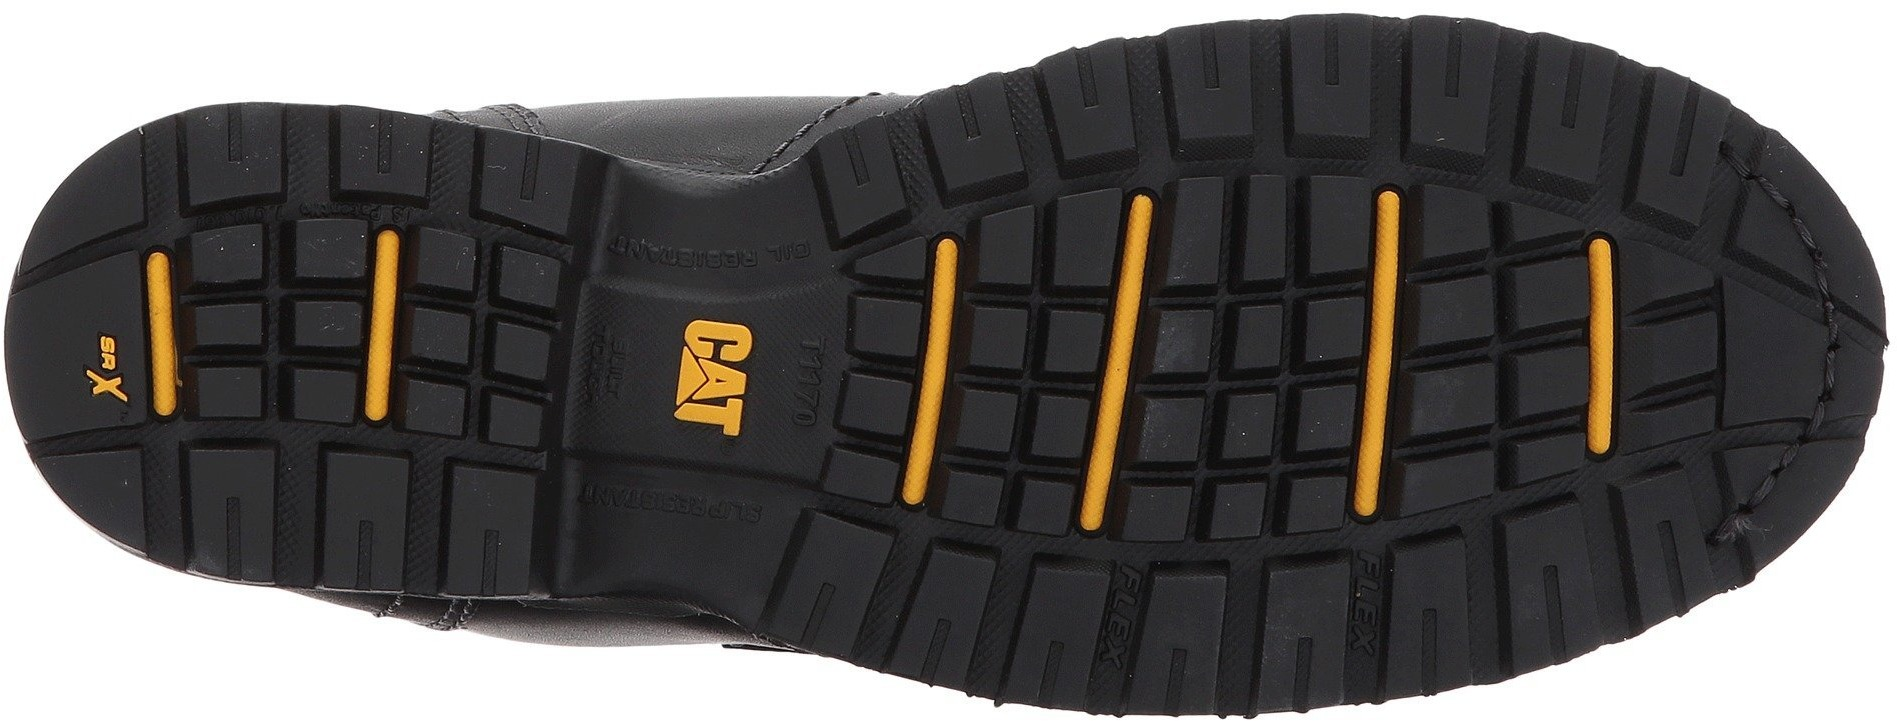quad: (1124, 174, 1487, 533), (838, 267, 1113, 542), (293, 201, 563, 467), (1477, 225, 1739, 492), (140, 204, 406, 446), (1395, 16, 1614, 218), (323, 406, 543, 598)
ribbon: (1772, 292, 1874, 397)
text: (629, 305, 792, 462), (1309, 549, 1424, 667), (762, 327, 867, 440), (1069, 569, 1166, 674), (58, 321, 140, 415)
